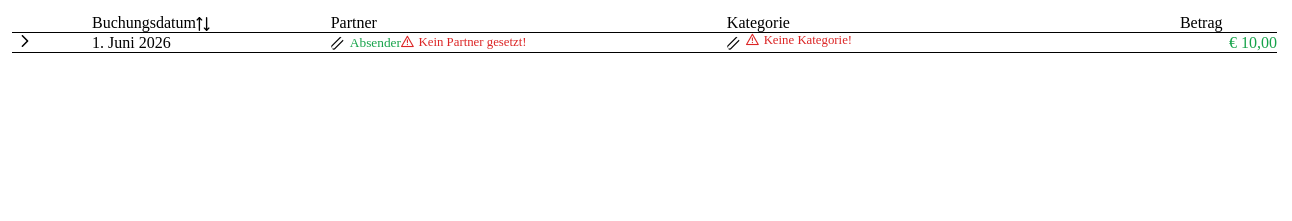
Scenario: TransactionTable › shows admin-only category/partner edit icons and comment/attachment action for admins
Click the button named "Row Collapsed": (25, 41) left=12, top=33, right=38, bottom=49
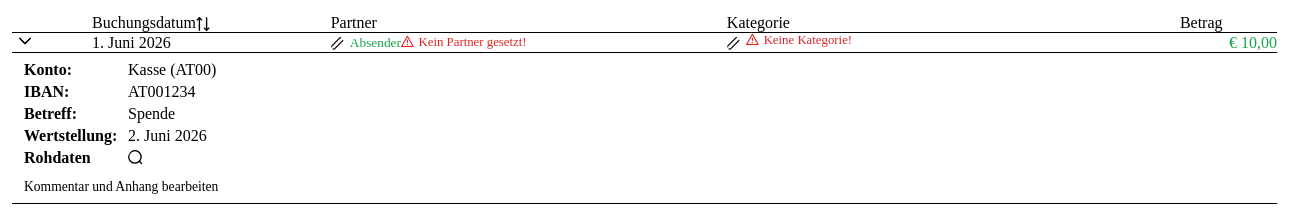
Check: the button with class "category-edit-icon" is shown, box left=727, top=36, right=740, bottom=52
Check: the button with class "admin-action" is shown, box left=24, top=179, right=218, bottom=195
